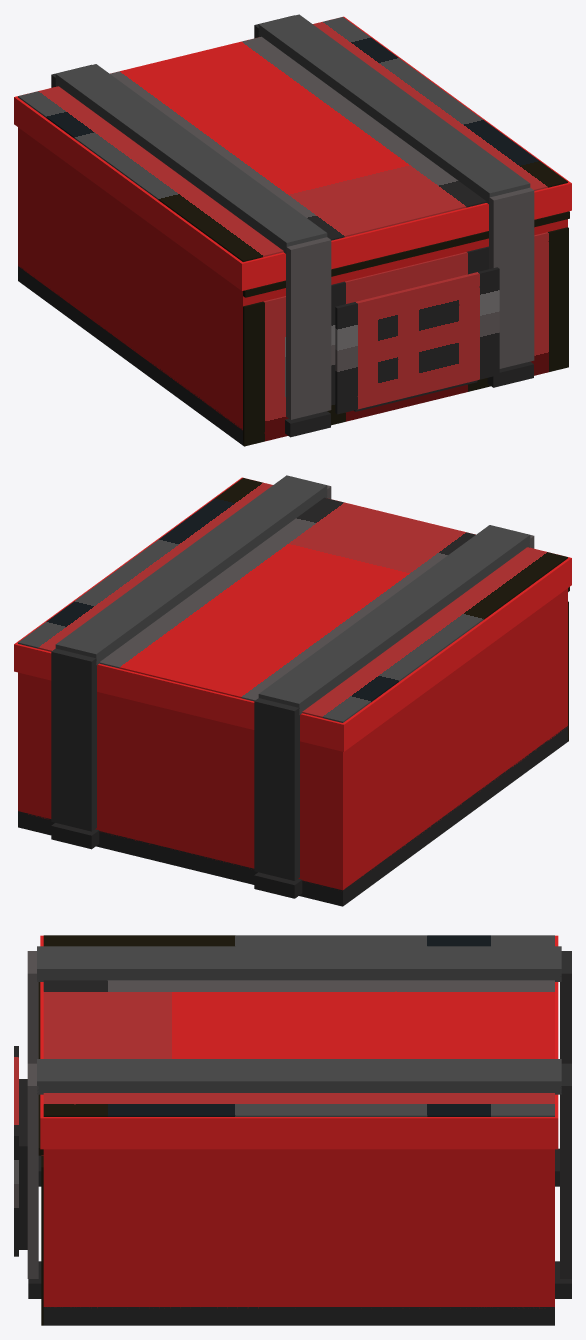
File: CMU3DSmallChestRedCloud.glb
3 views of the same model, one above another, from view 1: azimuth 30°, elevation 25°; view 2: azimuth 150°, elevation 25°; view 3: azimuth 270°, elevation 25° (orthographic). The views are drawn at different scales.
Visible parts, largest first — view 1: original broad lid paint, left shell, original buckle holes and alloy body, original blue red or yellow lower shell, separate closed plastic lid, elastic strap top 0, elastic strap top 1, elastic strap front 0, elastic strap front 1, plastic bottom pan, lid seam front, front shell (+2 smaller); view 2: original broad lid paint, left shell, rear shell, separate closed plastic lid, elastic strap top 1, elastic strap top 0, elastic strap back 1, elastic strap back 0, plastic bottom pan, right shell, strap folded foot 0, strap folded foot 1; view 3: right shell, original broad lid paint, elastic strap top 0, separate closed plastic lid, elastic strap top 1, plastic bottom pan, elastic strap back 1, elastic strap front 1, central buckle raised dark base, elastic strap back 0, elastic strap front 0, original buckle holes and alloy body (+2 smaller).
Boxes of the visible parts, x1,y1,x2,y2 form: original broad lid paint: (18,17,567,261); left shell: (18,127,259,430); original buckle holes and alloy body: (335,267,499,414); original blue red or yellow lower shell: (243,227,568,446); separate closed plastic lid: (14,16,571,290); elastic strap top 0: (55,64,327,253); elastic strap top 1: (258,14,530,204); elastic strap front 0: (286,237,331,419); elastic strap front 1: (489,187,534,368); plastic bottom pan: (18,266,242,445); lid seam front: (243,211,569,297); front shell: (259,223,551,302); original broad lid paint: (18,478,567,722); left shell: (326,588,567,890); rear shell: (34,676,326,886); separate closed plastic lid: (14,477,571,751); elastic strap top 1: (55,475,327,664); elastic strap top 0: (258,525,530,714); elastic strap back 1: (51,648,96,831); elastic strap back 0: (254,698,299,880); plastic bottom pan: (18,726,567,906); right shell: (18,672,34,815); strap folded foot 0: (254,872,302,898); strap folded foot 1: (51,823,99,849); right shell: (43,1149,554,1308); original broad lid paint: (43,935,554,1116); elastic strap top 0: (37,946,561,981); separate closed plastic lid: (40,935,558,1149); elastic strap top 1: (37,1059,561,1094); plastic bottom pan: (43,1307,554,1325); elastic strap back 1: (560,1063,571,1278); elastic strap front 1: (27,1063,38,1278); central buckle raised dark base: (19,1079,27,1249); elastic strap back 0: (560,951,571,1063); elastic strap front 0: (27,951,38,1063); original buckle holes and alloy body: (14,1046,18,1256).
Bounding box in the file's own units: 0.508 × 0.287 × 0.655.
10 materials, 3 textured.
